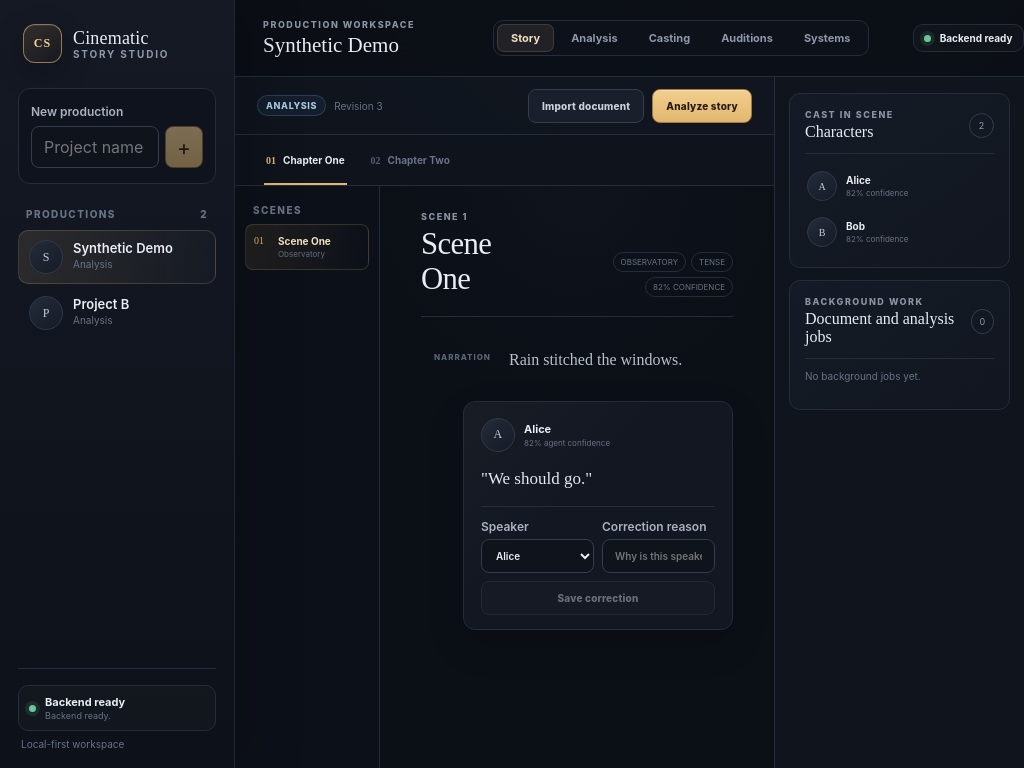
Test: Phase 0 desktop workspace › atomically clears rendered ownership while a project selection is pending or fails
expect the text "\"We should go.\"" is shown: met, box [481, 469, 592, 488]
Click the button "P Project B Analysis": (117, 313) [18, 286, 216, 340]
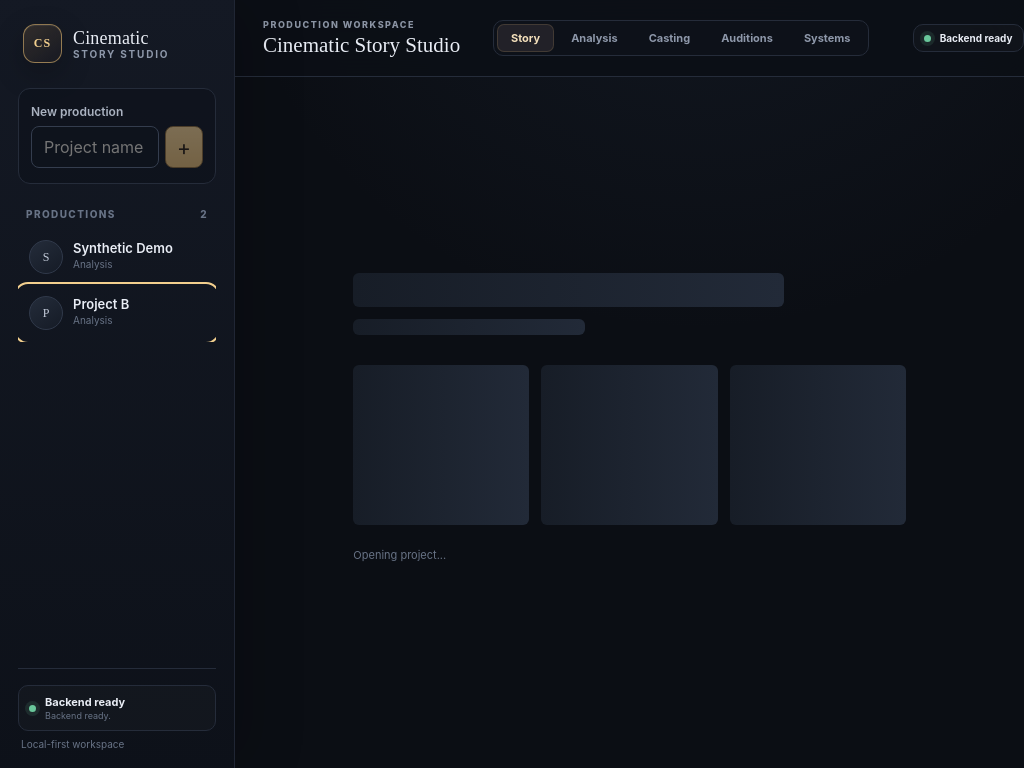
expect the text "Opening project..." is shown: met, box [353, 548, 446, 562]
expect the button "Save correction" is gone: met
expect the text "\"We should go.\"" is gone: met
